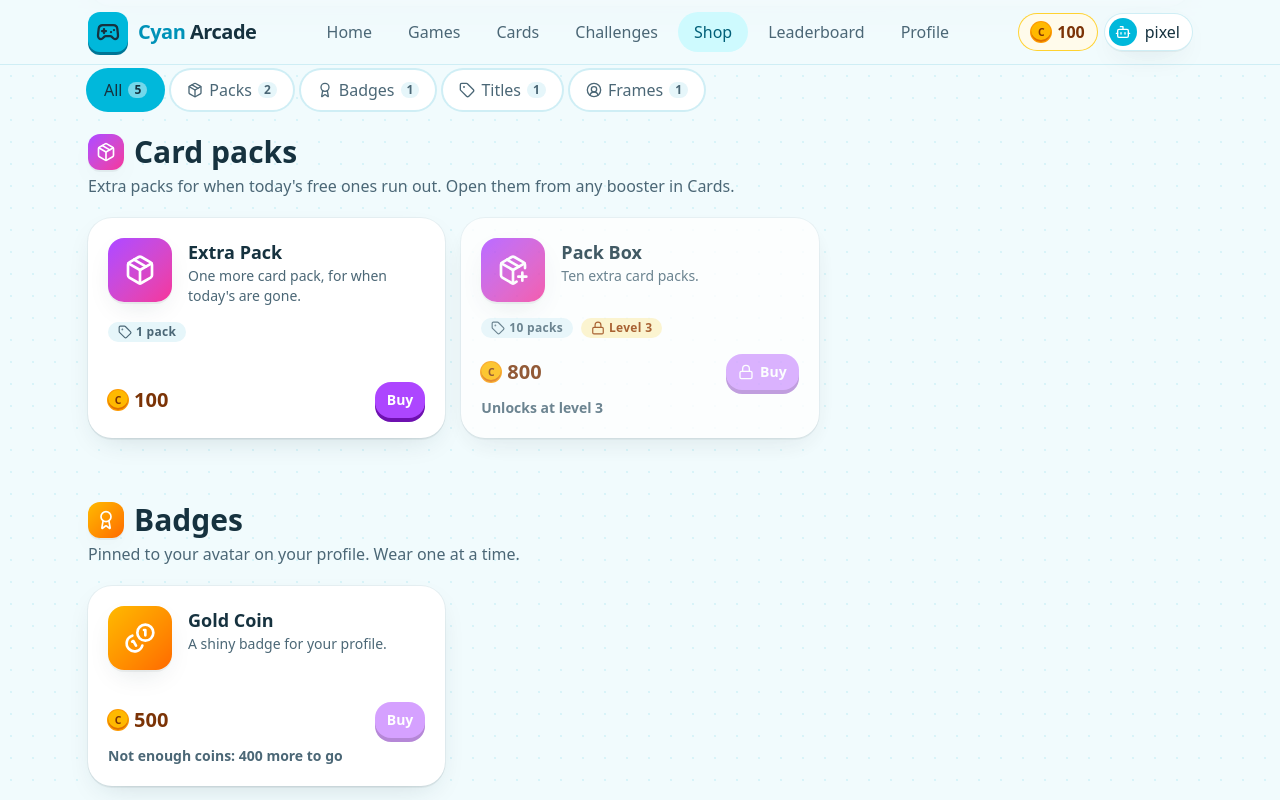
Test case: the shop › shows what the server says when a purchase is refused, and charges nothing
(page scrolled)
Click the button with aria-label "buy extra pack". click: click(400, 400)
box: 375,382 -> 425,418
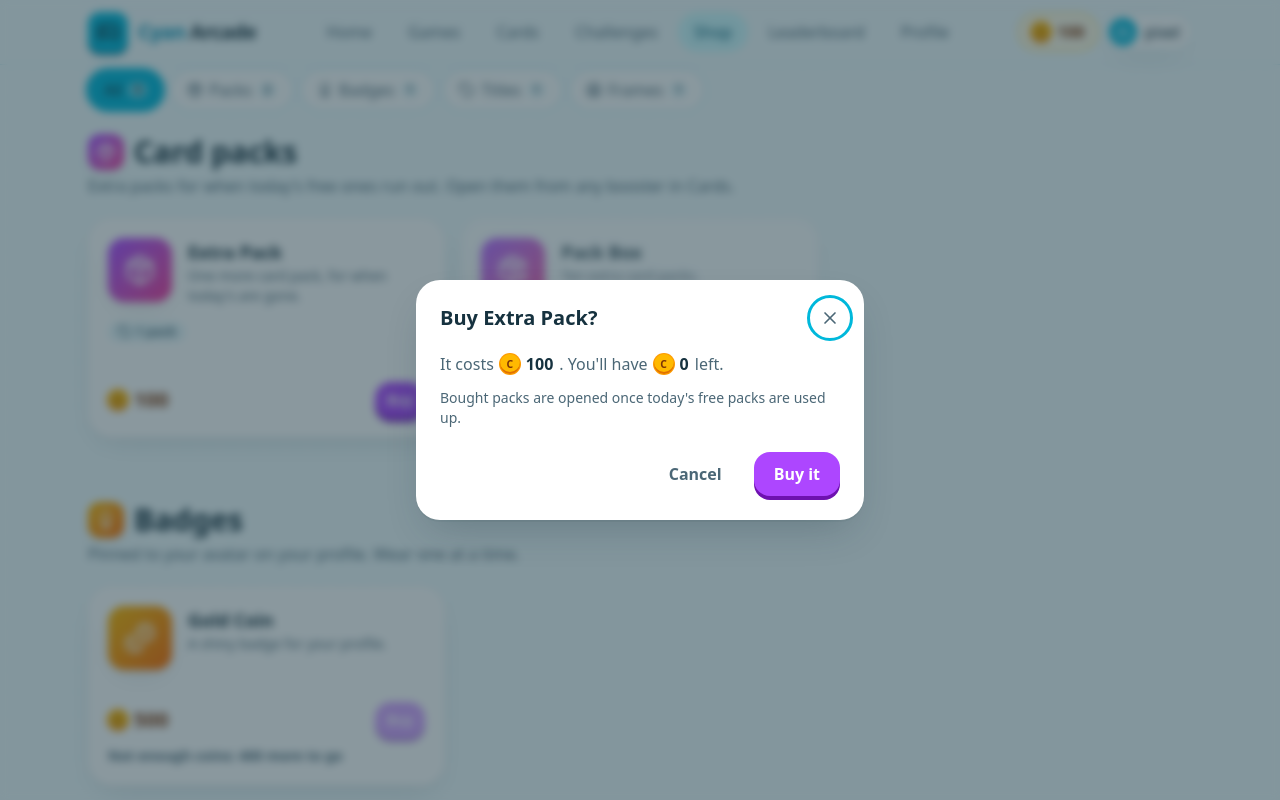
Click the button "Buy it". click: click(797, 474)
box: 754,452 -> 840,496
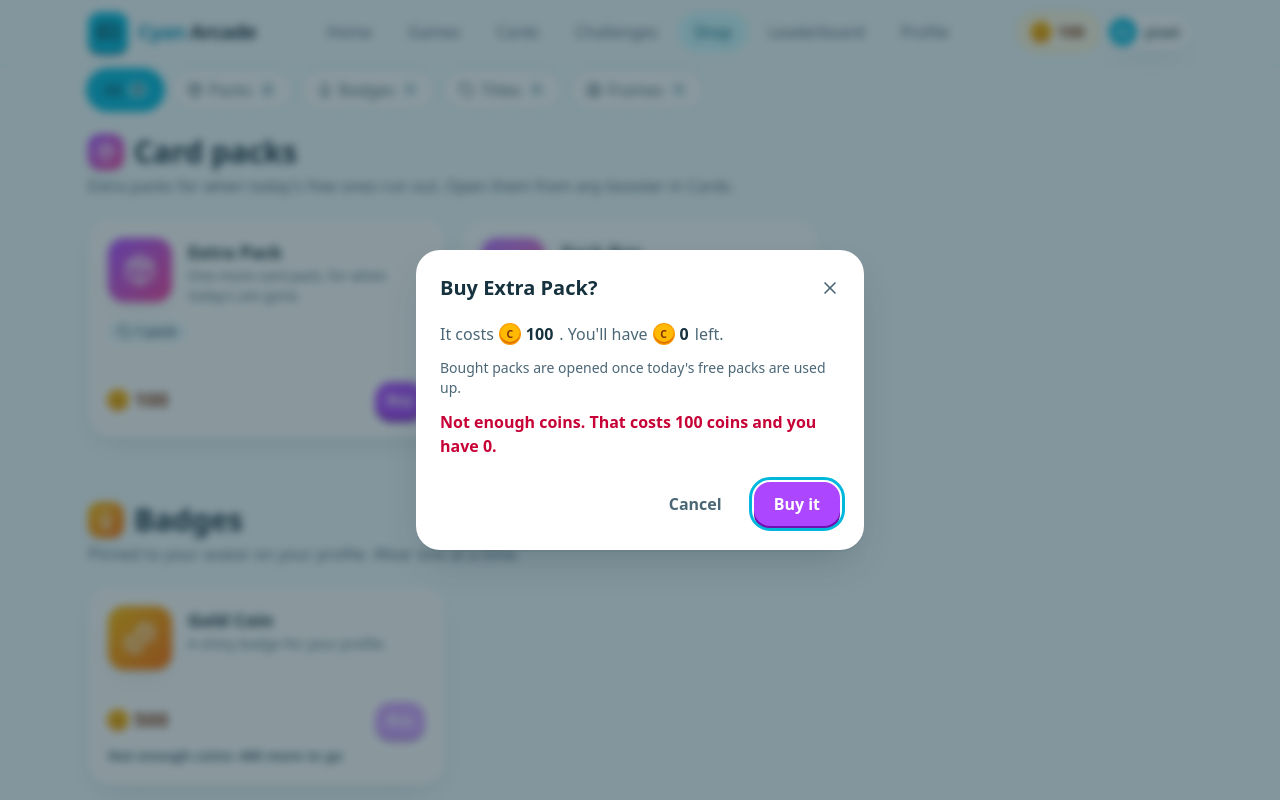
Now the message shows "That costs 100 coins and you have 0", box 440,411 -> 816,457
